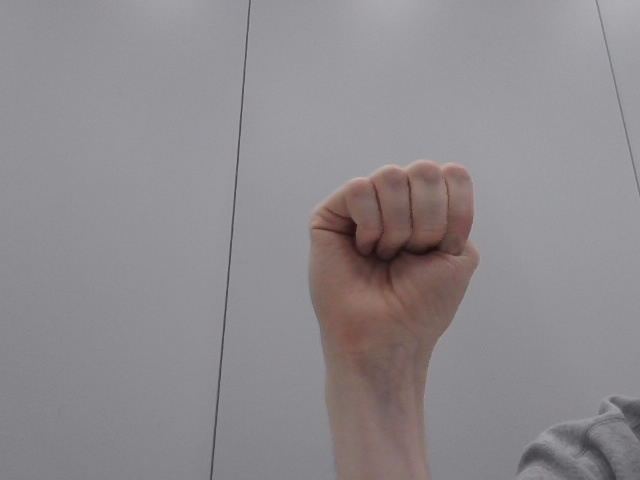down: (282, 151, 527, 387)
